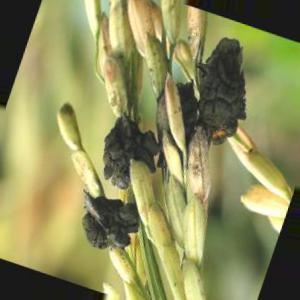False Smut: (193, 37, 246, 143), (102, 117, 152, 192), (85, 195, 134, 250)
